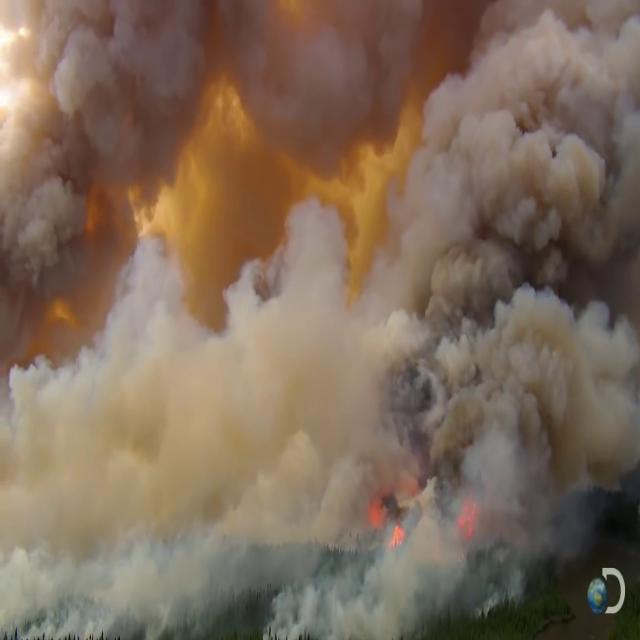Fire: (456, 496, 478, 541), (386, 514, 406, 548), (368, 501, 386, 531)
Smoke: (11, 226, 346, 640), (425, 50, 640, 463)
